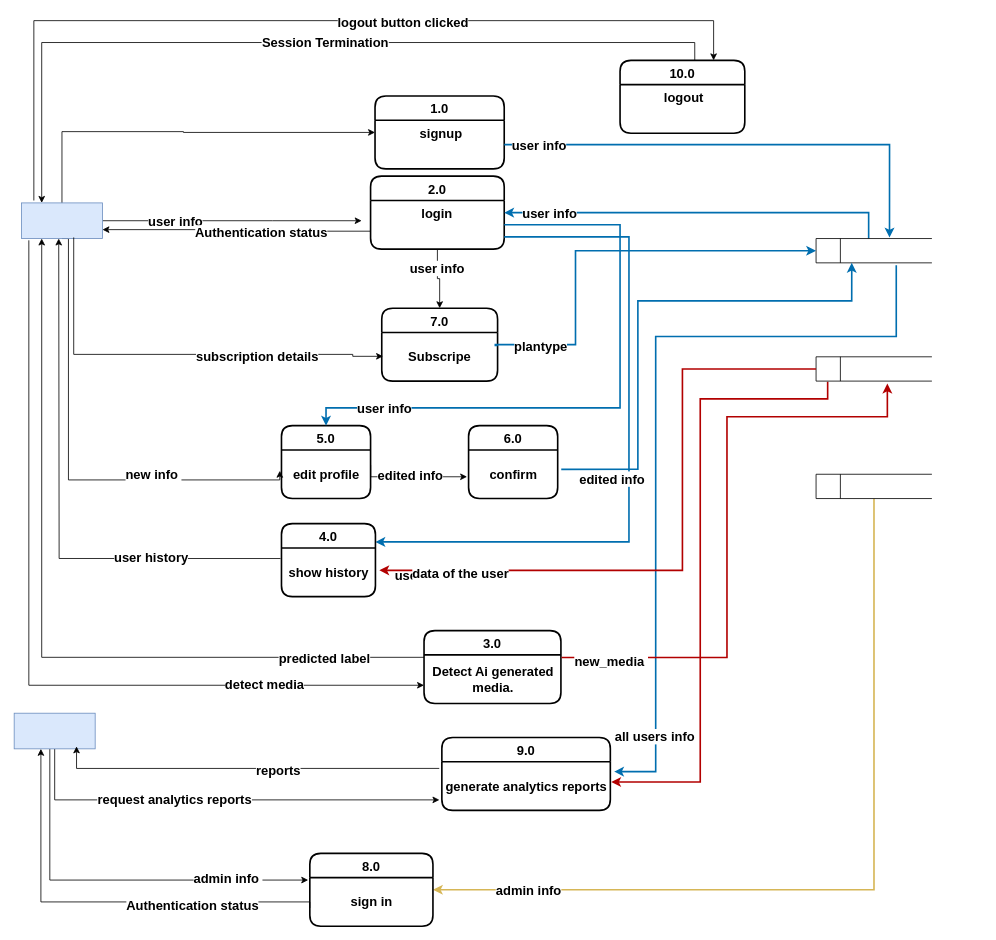
The diagram is 996 pixels wide and 940 high, and some of its shapes have lost their labels. The shapes that lost their labels are listed below. From the top down, each one's box as (x1, y1, x2, y2) in pixels, then its label:
(21, 202, 102, 239): User
(815, 238, 932, 263): D1 user database
(815, 356, 932, 381): D3 media_data database
(815, 473, 932, 499): D2 admins database
(13, 712, 95, 749): Admin
